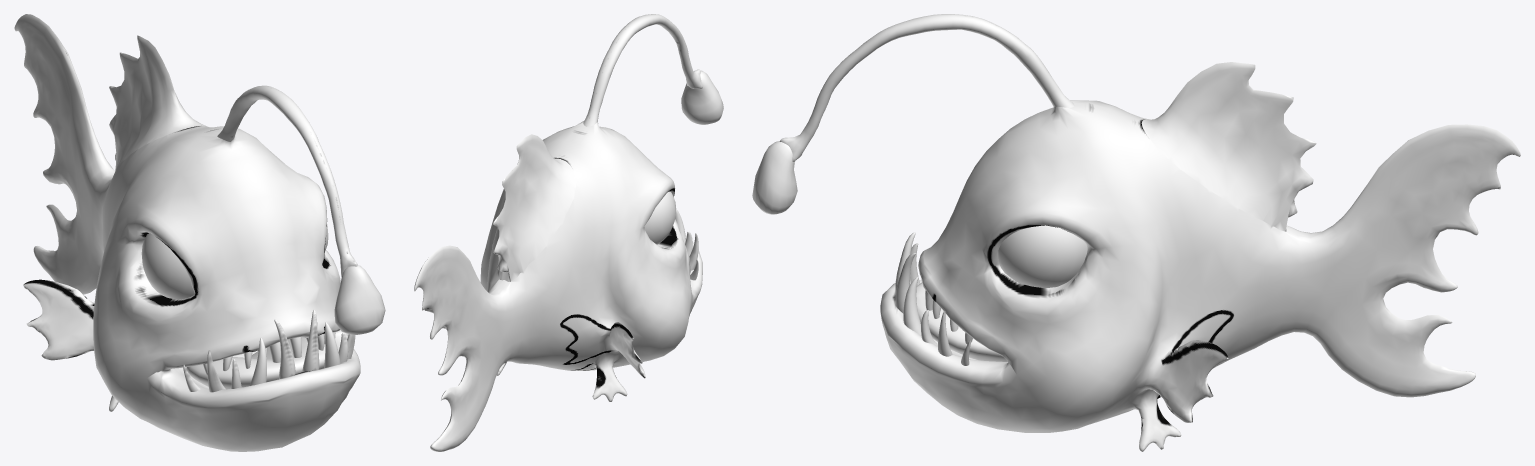
File: lampFish.glb
3 renders of one model, left to right at view 1: azimuth 30°, elevation 25°; view 2: azimuth 150°, elevation 25°; view 3: azimuth 270°, elevation 25°, orthographic. The views are drawn at different scales.
Visible parts, largest first — view 1: Body, Fins, tooths, Lamp_stick, Lamp, EyeBalls, Toung; view 2: Body, Fins, Lamp_stick, Lamp, EyeBalls, tooths; view 3: Body, Fins, Lamp_stick, EyeBalls, tooths, Lamp, Toung.
Boxes of the visible parts, x1,y1,x2,y2 form: Body: [14, 14, 360, 451]; Fins: [109, 35, 206, 170]; tooths: [183, 309, 355, 392]; Lamp_stick: [217, 85, 357, 276]; Lamp: [334, 265, 385, 334]; EyeBalls: [141, 224, 328, 299]; Toung: [186, 337, 325, 389]; Body: [414, 121, 702, 451]; Fins: [493, 134, 575, 281]; Lamp_stick: [583, 14, 702, 126]; Lamp: [681, 70, 723, 124]; EyeBalls: [644, 191, 676, 244]; tooths: [675, 209, 698, 280]; Body: [880, 100, 1520, 451]; Fins: [1141, 62, 1316, 231]; Lamp_stick: [779, 14, 1074, 161]; EyeBalls: [998, 225, 1087, 287]; tooths: [895, 232, 972, 365]; Lamp: [752, 141, 797, 214]; Toung: [916, 282, 1007, 361].
Bounding box in the file's own units: 0.21 × 0.2839 × 0.4935.
1 material, 1 textured.
